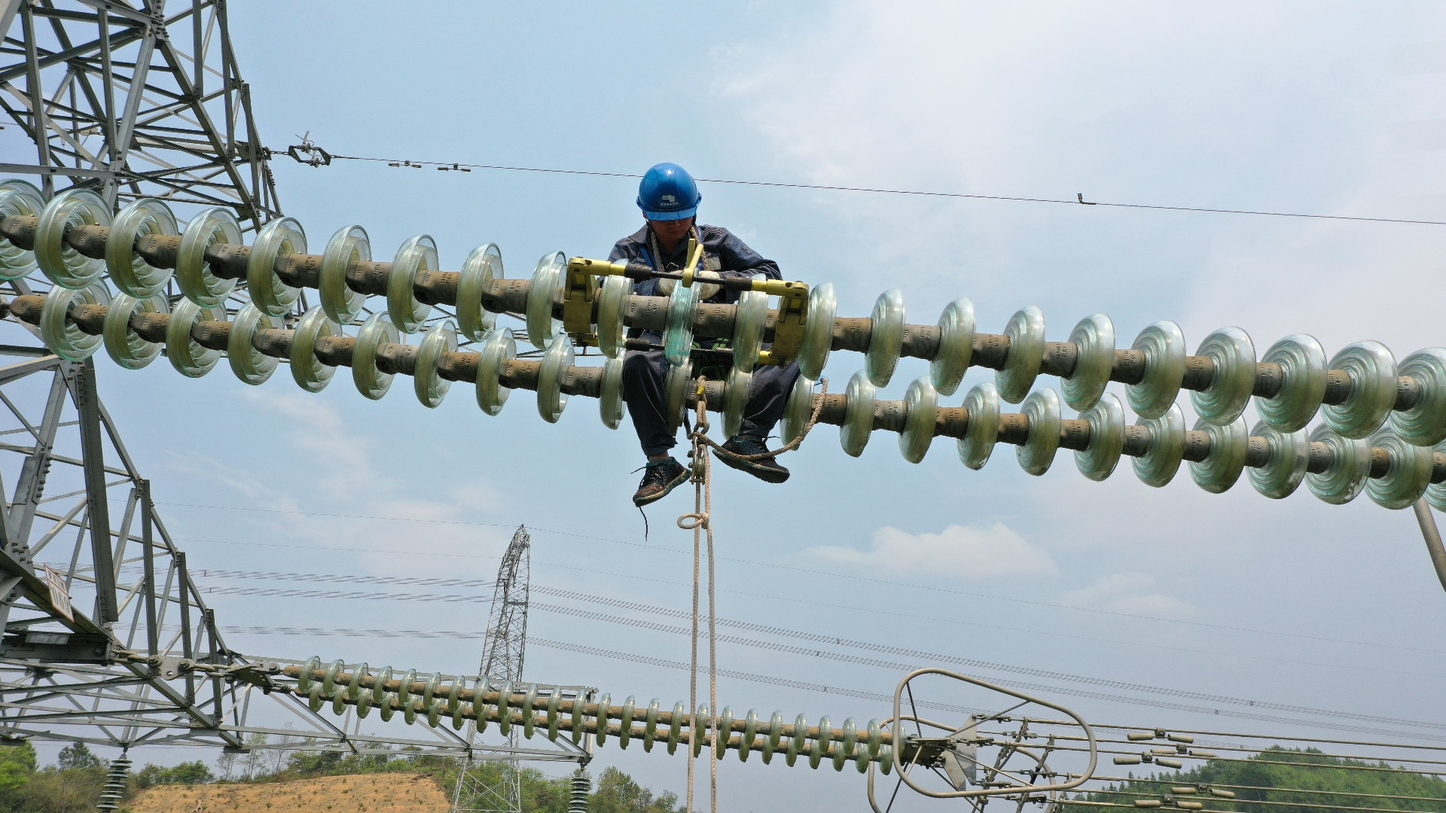insulator: (1, 169, 1446, 530), (289, 650, 914, 779), (87, 748, 134, 813), (565, 775, 593, 813)
